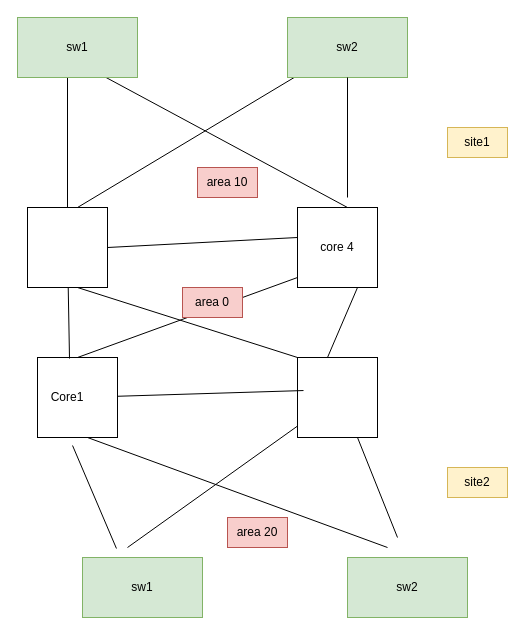
Some shapes in this 525 by 635 pixel diagram are drawn without their labels. The shapes that lost their labels are listed below. From the top down, each one's box as (x1, y1, x2, y2) in pixels, then its label:
(26, 206, 108, 288): core3
(296, 356, 378, 438): Core2
